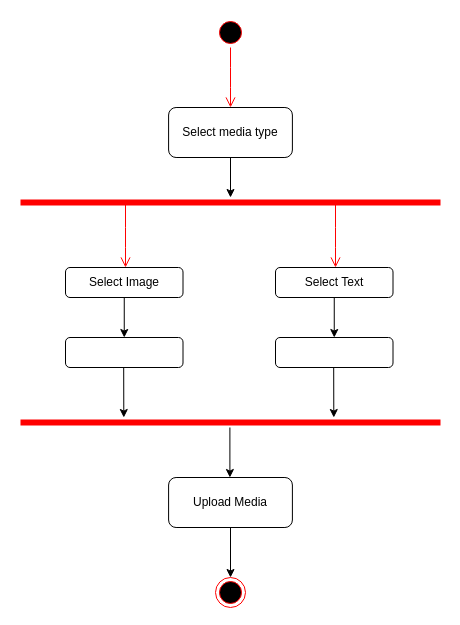
The diagram is 460 pixels wide and 625 high, and some of its shapes have lost their labels. The shapes that lost their labels are listed below. From the top down, each one's centre as x and y in pixels, then its label:
At pixel 123 352: "Browse File System".
At pixel 333 352: "Enter Text / Link".
